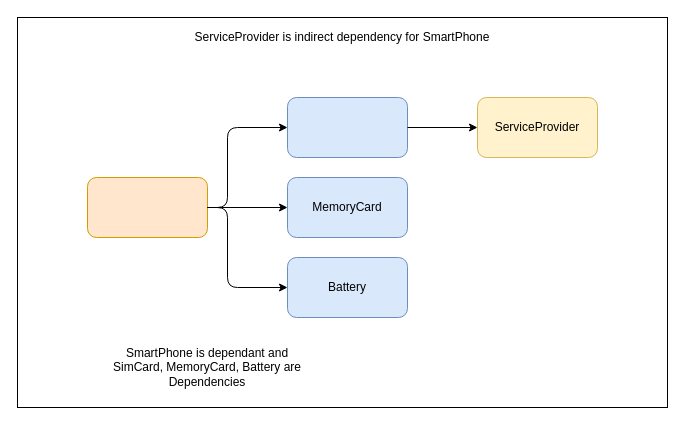
Some shapes in this 685 by 425 pixel diagram are drawn without their labels. Here are the shapes that lost their labels. From the top down, the centre of each, then its label:
At [347,127]: "SimCard".
At [147,207]: "SmartPhone".
